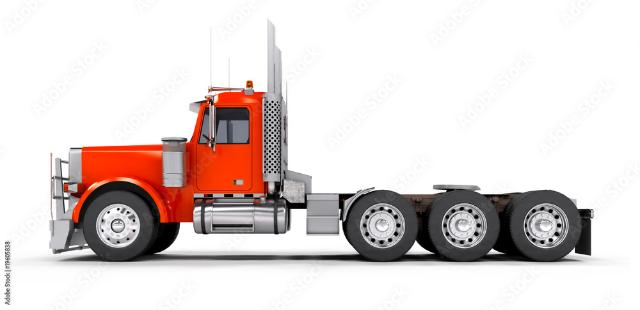truck: (30, 23, 614, 277)
